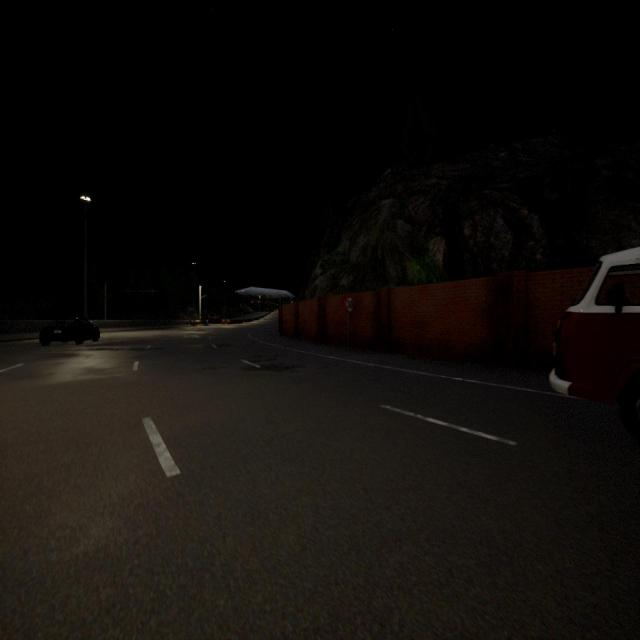Traffic_Signs: (344, 297, 356, 313)
Vehicle: (550, 248, 640, 442), (41, 309, 101, 350)
traffic_light: (253, 307, 272, 313)
